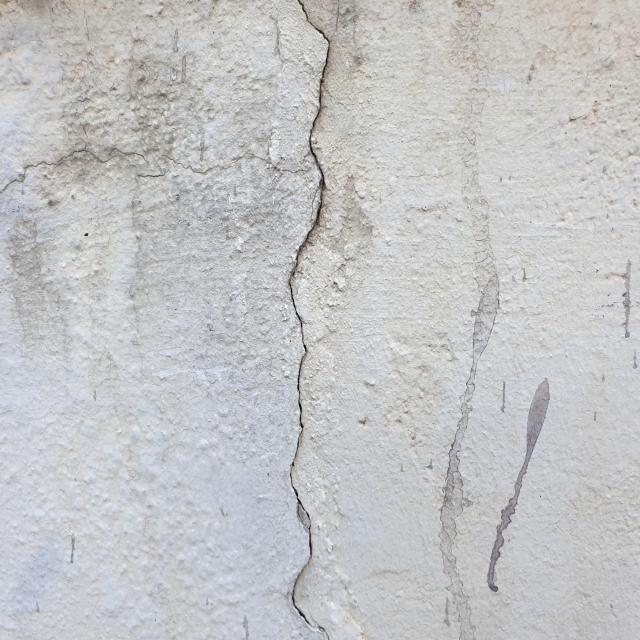SurfaceCrack: (409, 1, 577, 640), (240, 0, 376, 640)
